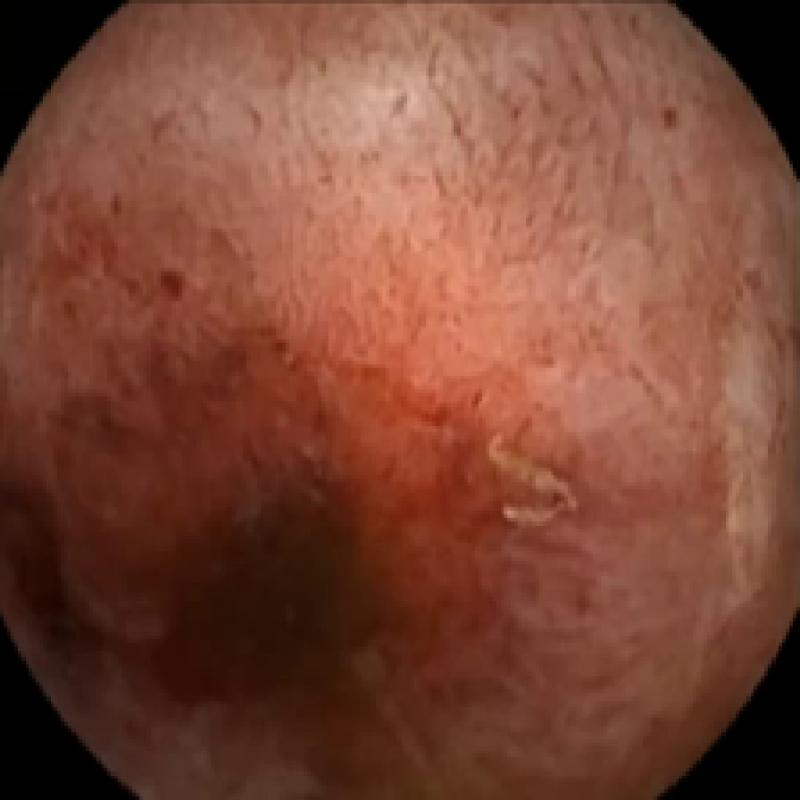bleeding: (0, 264, 579, 793)
